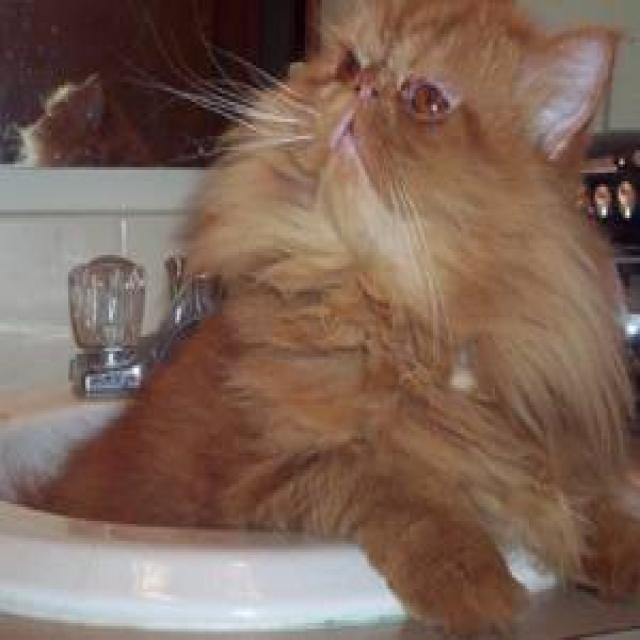Persian: (286, 0, 612, 249)
